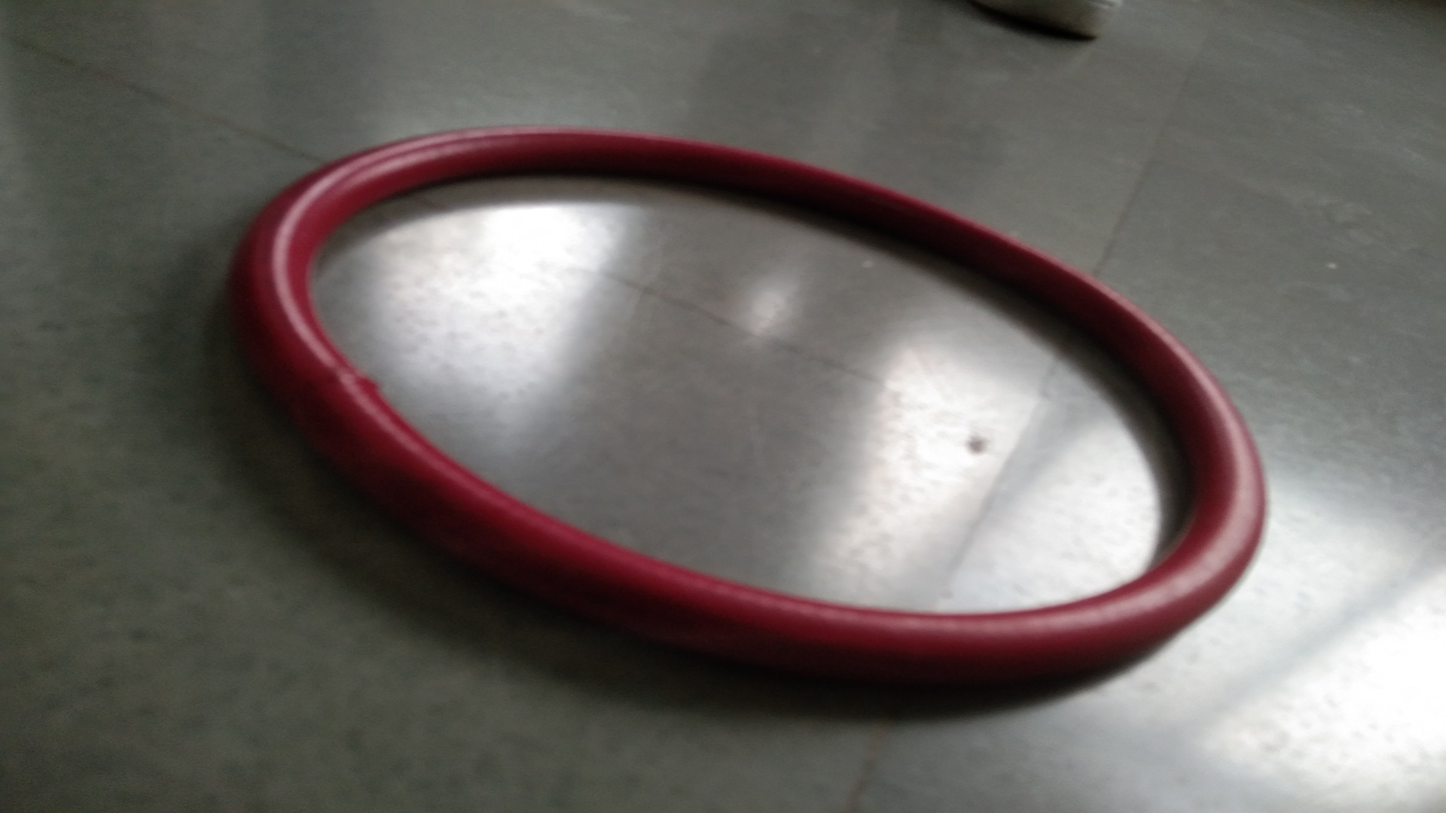Red ring: (239, 126, 1266, 686)
